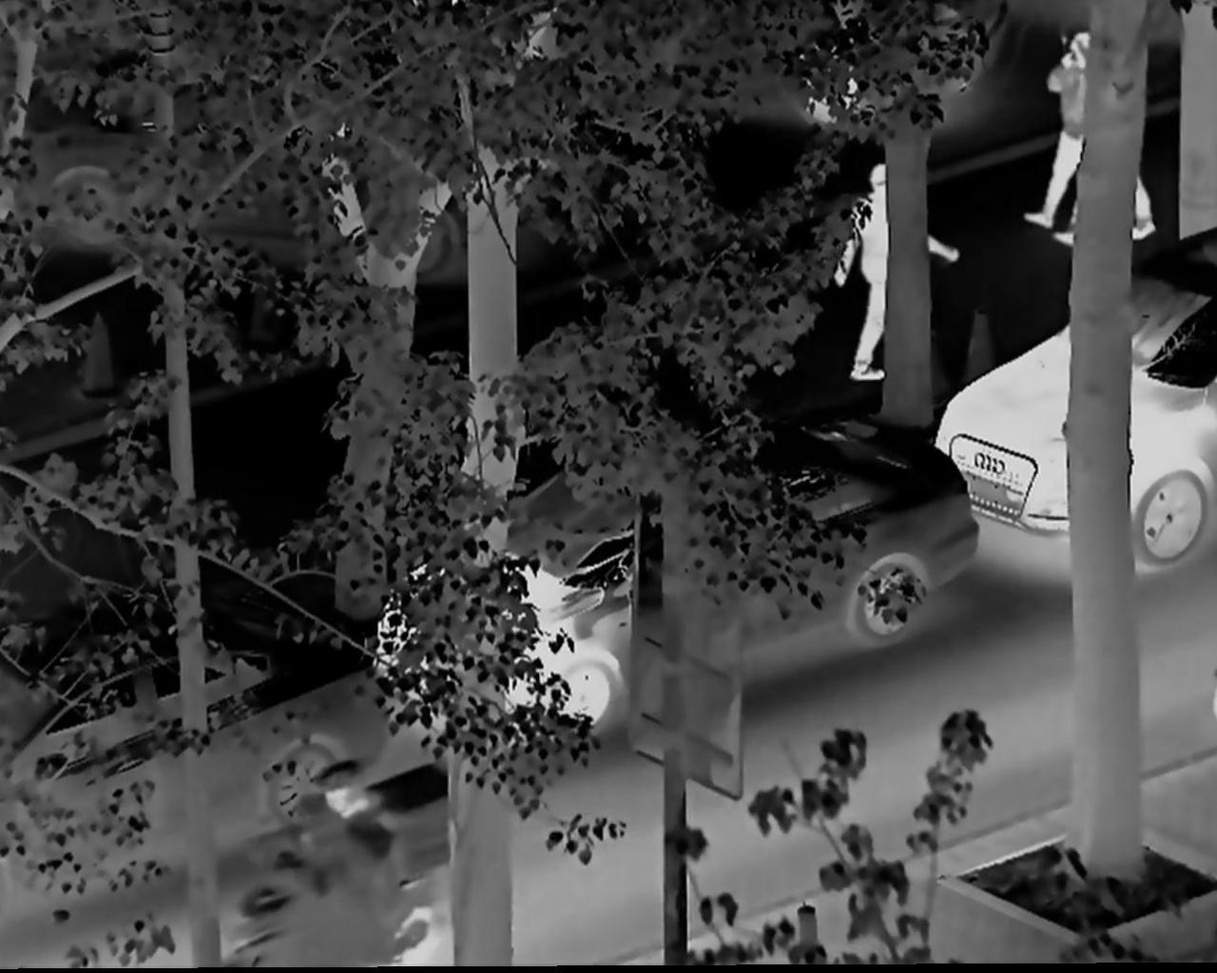person: (828, 147, 957, 373), (1031, 23, 1149, 243)
